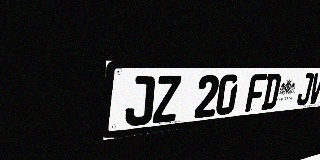0: (215, 74, 239, 116)
2: (194, 75, 220, 118)
D: (261, 74, 282, 110)
F: (245, 74, 267, 112)
J: (124, 76, 155, 127), (296, 73, 315, 106)
V: (307, 73, 320, 104)
Z: (152, 75, 181, 124)
